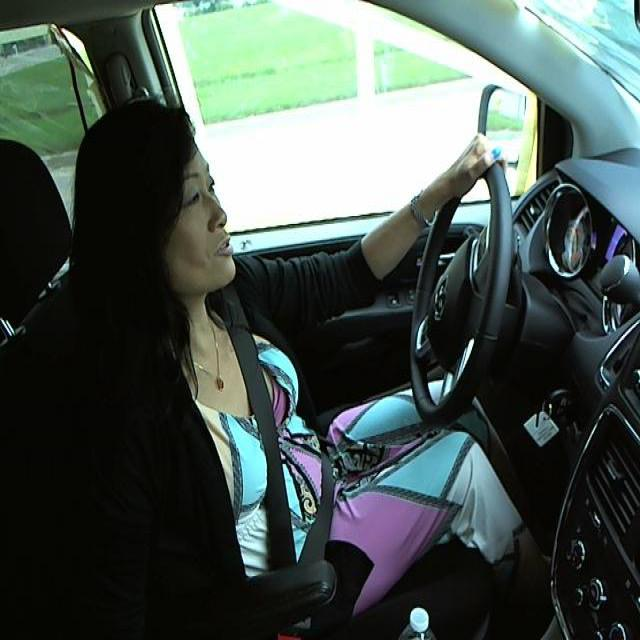seatbelt: (225, 314, 343, 574)
